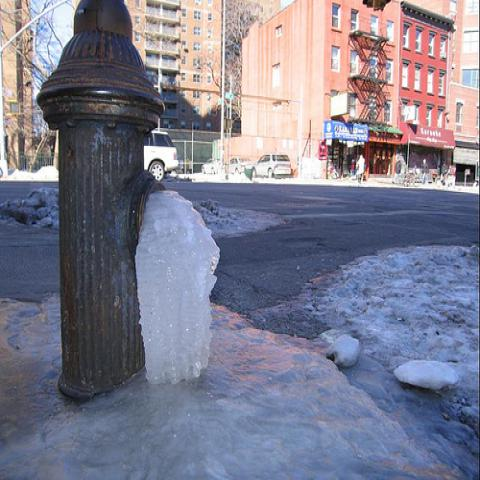car: (144, 131, 178, 182), (252, 153, 293, 178)
